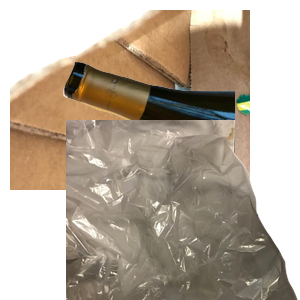cardboard: (10, 10, 250, 190)
glass: (60, 59, 300, 231)
plastic: (85, 163, 235, 300)
trash: (66, 120, 300, 300)
